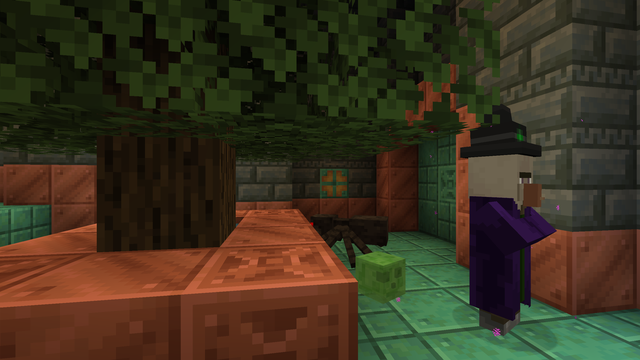araignees: (308, 208, 386, 257)
slimes: (357, 250, 405, 301)
sorcieres: (457, 146, 525, 342)
